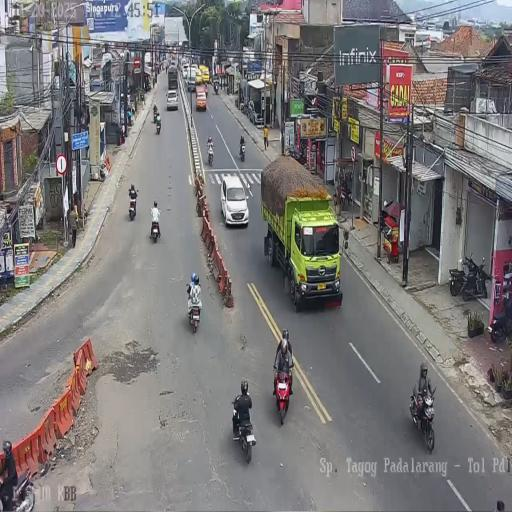car: (220, 174, 249, 228), (248, 100, 262, 125), (195, 86, 208, 111), (166, 90, 178, 110), (198, 65, 210, 84), (190, 64, 199, 86), (182, 66, 190, 86)
motorcycle: (448, 252, 488, 302), (409, 384, 436, 452), (231, 397, 256, 464), (272, 366, 294, 427), (489, 303, 510, 342), (187, 292, 201, 334), (288, 141, 306, 166), (150, 212, 160, 244), (128, 192, 137, 220), (240, 98, 250, 116), (239, 140, 246, 162), (207, 144, 214, 166), (156, 117, 161, 134), (153, 108, 158, 122), (214, 81, 218, 94), (235, 97, 238, 108), (165, 64, 168, 74)
truck: (262, 159, 337, 310), (168, 62, 178, 90), (144, 52, 151, 74)
